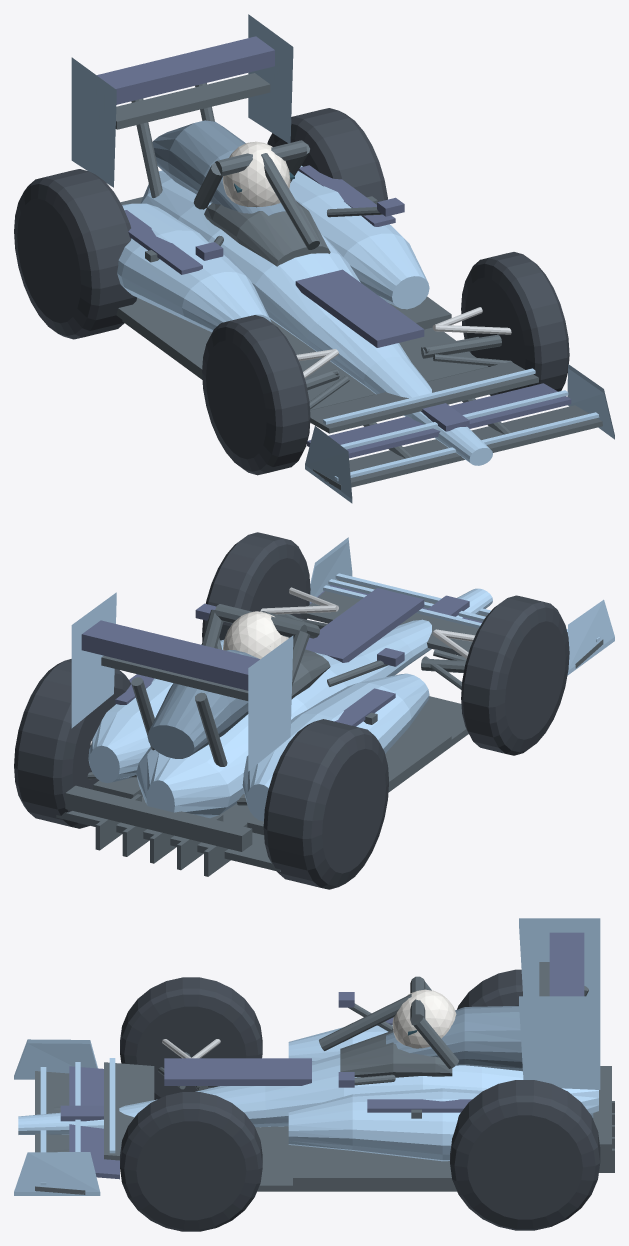
File: bugatti_high.glb
The picture shows the model from 3 angles, top to bottom: view 1: azimuth 30°, elevation 25°; view 2: azimuth 150°, elevation 25°; view 3: azimuth 270°, elevation 25°; orthographic projection. The views are drawn at different scales.
Parts seen in each view (by area): view 1: BODY_paint, BODY_carbon, BODY_accent, RearLeftWheel_rubber, FrontLeftWheel_rubber, FrontRightWheel_rubber, RearRightWheel_rubber, BODY_paint_dark, BODY_helmet, BODY_metal; view 2: BODY_paint, BODY_carbon, RearLeftWheel_rubber, FrontLeftWheel_rubber, BODY_accent, RearRightWheel_rubber, FrontRightWheel_rubber, BODY_paint_dark, BODY_helmet, BODY_metal; view 3: BODY_paint, BODY_carbon, RearRightWheel_rubber, FrontRightWheel_rubber, BODY_accent, FrontLeftWheel_rubber, BODY_paint_dark, BODY_helmet, RearLeftWheel_rubber.
Part boxes in pixels (x1,y1,x2,y2): BODY_paint: [71, 14, 614, 503]; BODY_carbon: [115, 73, 602, 489]; BODY_accent: [96, 36, 571, 458]; RearLeftWheel_rubber: [14, 169, 136, 339]; FrontLeftWheel_rubber: [202, 315, 310, 475]; FrontRightWheel_rubber: [461, 252, 569, 395]; RearRightWheel_rubber: [267, 108, 387, 201]; BODY_paint_dark: [152, 120, 285, 215]; BODY_helmet: [222, 141, 290, 207]; BODY_metal: [296, 307, 511, 378]; BODY_paint: [71, 537, 614, 821]; BODY_carbon: [56, 579, 603, 876]; RearLeftWheel_rubber: [263, 719, 388, 889]; FrontLeftWheel_rubber: [461, 595, 569, 755]; BODY_accent: [81, 585, 482, 726]; RearRightWheel_rubber: [14, 659, 130, 828]; FrontRightWheel_rubber: [202, 532, 310, 641]; BODY_paint_dark: [147, 650, 258, 758]; BODY_helmet: [223, 611, 288, 659]; BODY_metal: [90, 587, 475, 745]; BODY_paint: [14, 918, 600, 1195]; BODY_carbon: [35, 962, 614, 1194]; RearRightWheel_rubber: [450, 1080, 600, 1230]; FrontRightWheel_rubber: [120, 1092, 262, 1231]; BODY_accent: [60, 932, 584, 1179]; FrontLeftWheel_rubber: [120, 977, 262, 1099]; BODY_paint_dark: [386, 1006, 522, 1071]; BODY_helmet: [392, 989, 456, 1048]; RearLeftWheel_rubber: [457, 969, 522, 1009].
Size of the model in its own units: 2.59 by 1.9 by 4.88.
